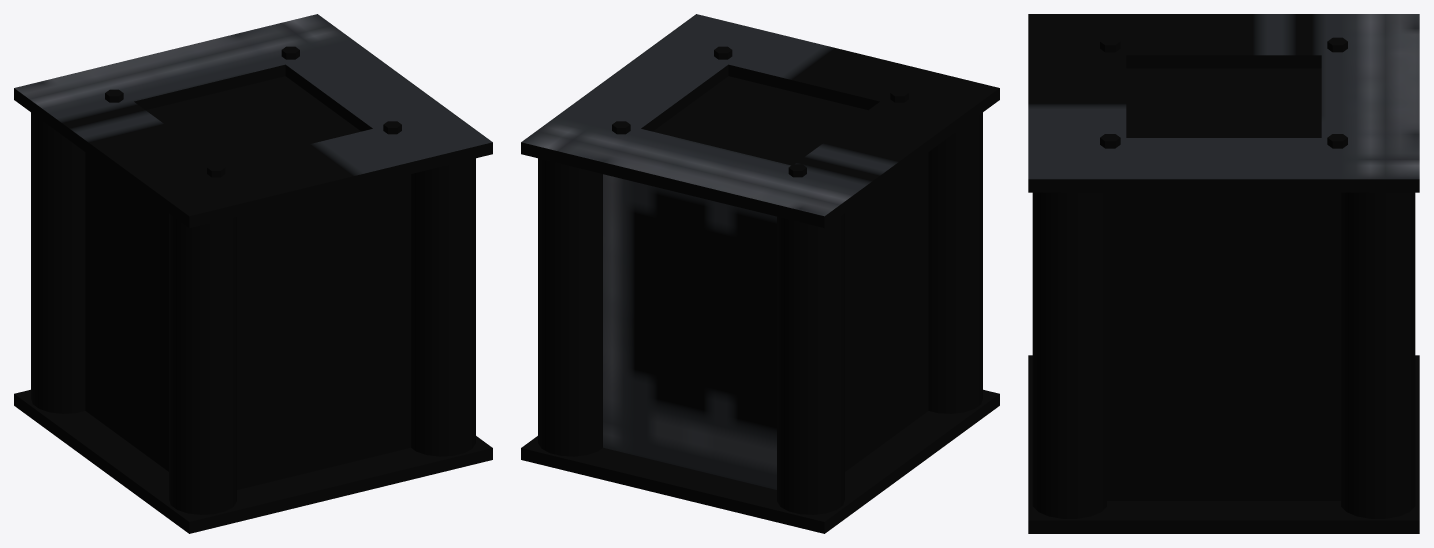
The model's file is item.obj.
3 views of the same model, side by side, from view 1: azimuth 30°, elevation 25°; view 2: azimuth 150°, elevation 25°; view 3: azimuth 270°, elevation 25° (orthographic). The views are drawn at different scales.
Visible parts, largest first — view 1: glass_south__glass_south, deck_top__deck_top_plate, glass_west__glass_west, post_sw__post_sw, post_se__post_se, post_nw__post_nw, deck_bottom__deck_bottom_plate, deck_top__deck_top_throat, deck_top__deck_top_studs; view 2: glass_north__glass_north, deck_top__deck_top_plate, glass_west__glass_west, post_nw__post_nw, post_ne__post_ne, post_sw__post_sw, deck_bottom__deck_bottom_plate, deck_top__deck_top_throat, deck_top__deck_top_studs; view 3: glass_east__glass_east, deck_top__deck_top_plate, post_ne__post_ne, post_se__post_se, deck_top__deck_top_throat, deck_bottom__deck_bottom_plate, deck_top__deck_top_studs.
Part boxes in pixels (left/top/right/bottom): glass_south__glass_south: left=237, top=174, right=410, bottom=489; deck_top__deck_top_plate: left=14, top=14, right=492, bottom=227; glass_west__glass_west: left=85, top=152, right=168, bottom=471; post_sw__post_sw: left=169, top=213, right=236, bottom=514; post_se__post_se: left=411, top=158, right=475, bottom=456; post_nw__post_nw: left=31, top=112, right=85, bottom=413; deck_bottom__deck_bottom_plate: left=14, top=389, right=492, bottom=533; deck_top__deck_top_throat: left=146, top=76, right=360, bottom=165; deck_top__deck_top_studs: left=105, top=46, right=401, bottom=177; glass_north__glass_north: left=603, top=174, right=776, bottom=489; deck_top__deck_top_plate: left=521, top=14, right=999, bottom=227; glass_west__glass_west: left=845, top=152, right=928, bottom=471; post_nw__post_nw: left=777, top=213, right=844, bottom=514; post_ne__post_ne: left=538, top=158, right=602, bottom=456; post_sw__post_sw: left=928, top=112, right=982, bottom=413; deck_bottom__deck_bottom_plate: left=521, top=389, right=999, bottom=533; deck_top__deck_top_throat: left=653, top=76, right=867, bottom=165; deck_top__deck_top_studs: left=612, top=46, right=908, bottom=177; glass_east__glass_east: left=1107, top=192, right=1340, bottom=500; deck_top__deck_top_plate: left=1028, top=14, right=1419, bottom=192; post_ne__post_ne: left=1341, top=192, right=1415, bottom=518; post_se__post_se: left=1032, top=192, right=1106, bottom=518; deck_top__deck_top_throat: left=1126, top=68, right=1321, bottom=137; deck_bottom__deck_bottom_plate: left=1028, top=355, right=1419, bottom=533; deck_top__deck_top_studs: left=1100, top=37, right=1347, bottom=148.
Size of the model in its own units: 1 by 1.04 by 1.
